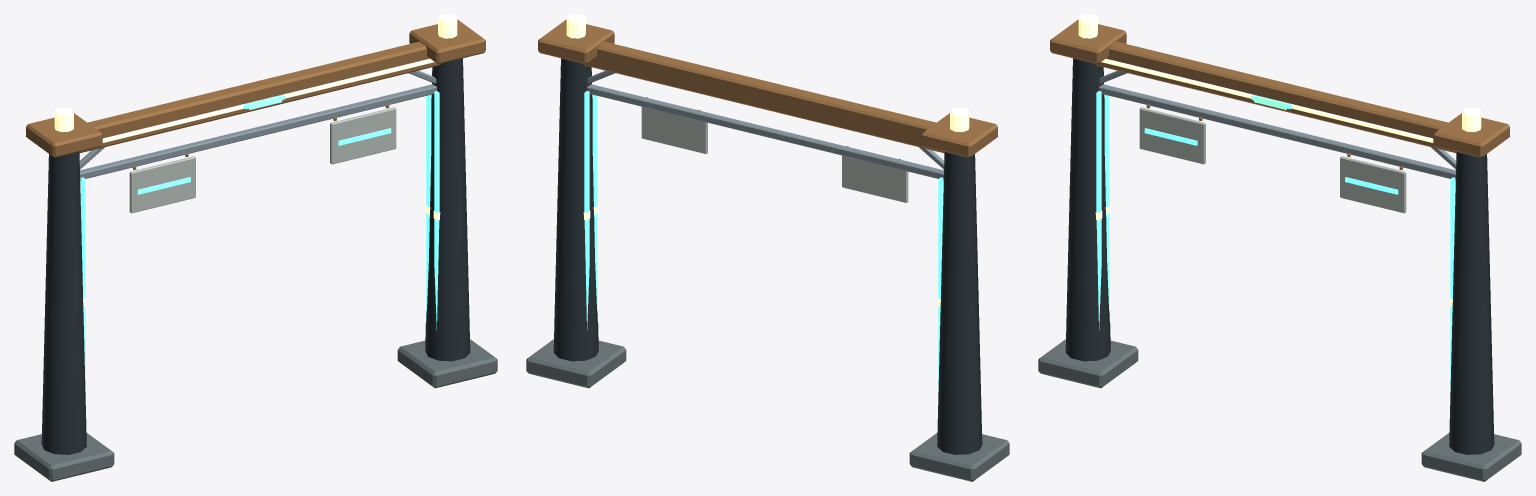
File: neon-gate.lod0.glb
3 views of the same model, side by side, from view 1: azimuth 30°, elevation 25°; view 2: azimuth 150°, elevation 25°; view 3: azimuth 330°, elevation 25° (orthographic).
Parts seen in each view (by area): view 1: structure; view 2: structure; view 3: structure.
Boxes of the visible parts, <box> form: structure: <box>14,14,497,481</box>; structure: <box>526,14,1009,481</box>; structure: <box>1038,14,1521,481</box>.
Size of the model in its own units: 10.3 by 7.68 by 1.5.
